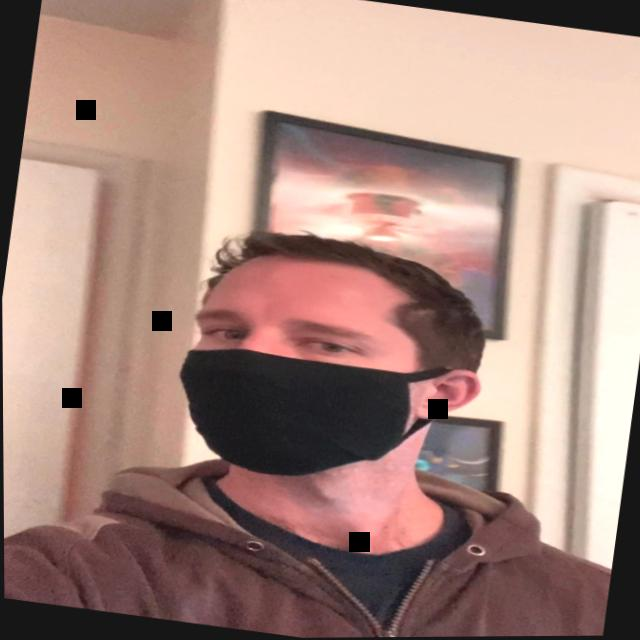Mask: (158, 228, 508, 528)
